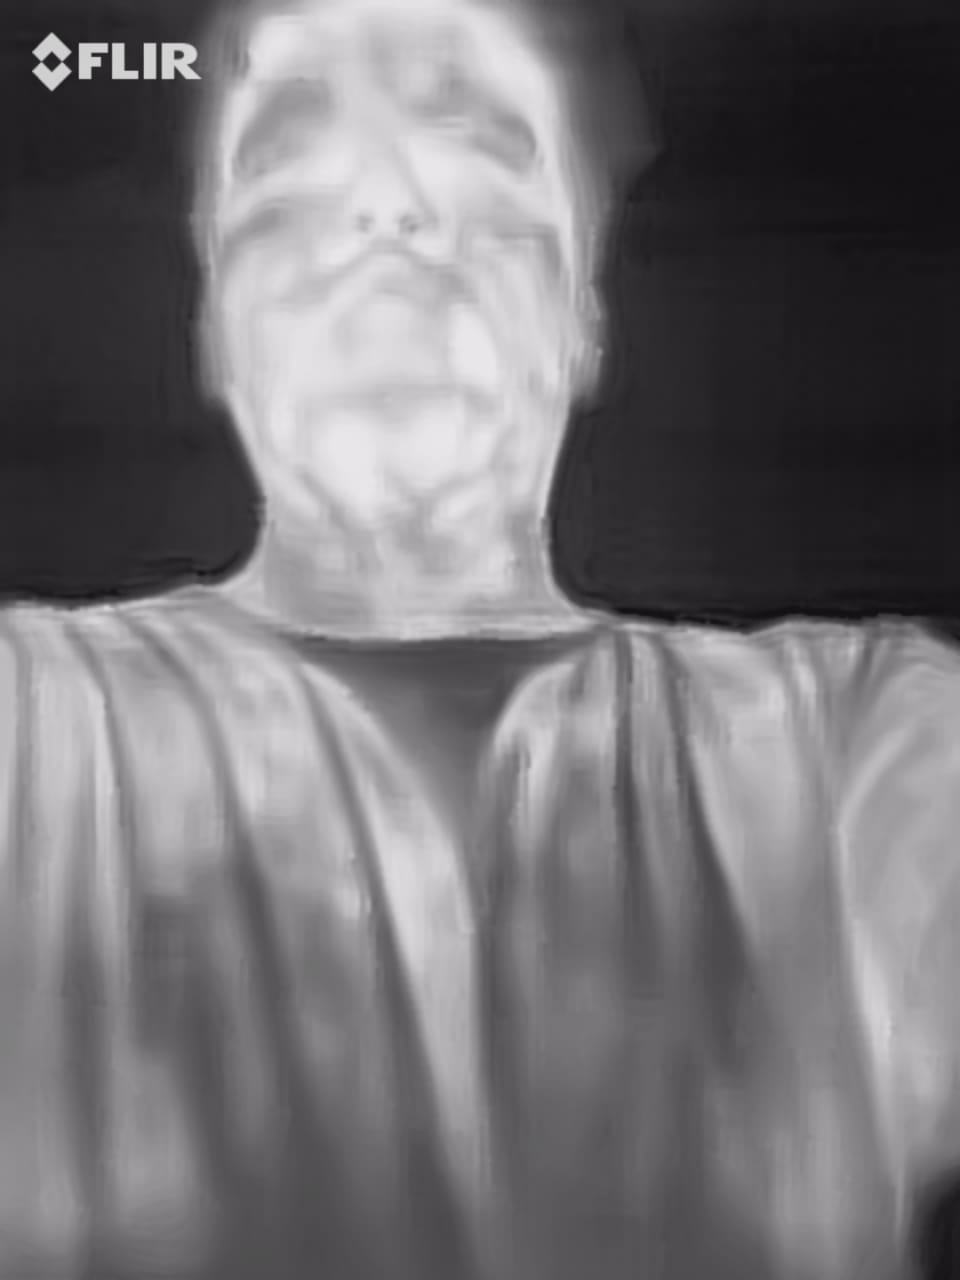head: (161, 1, 638, 602)
